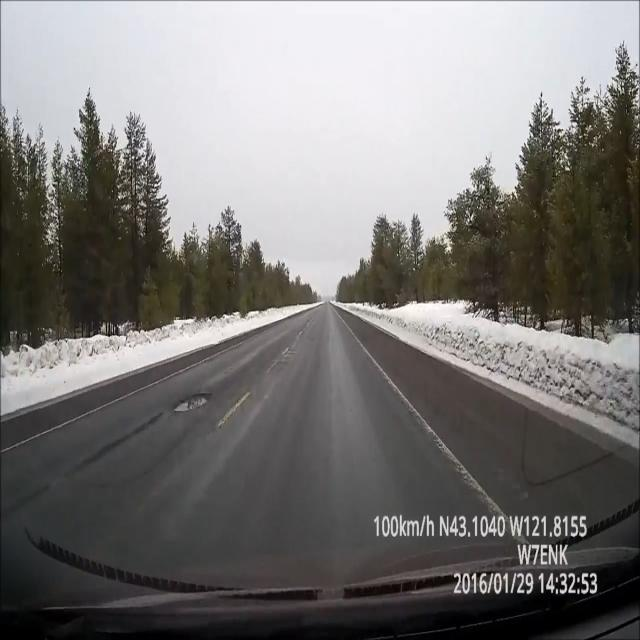Pothole: (175, 387, 212, 419)
